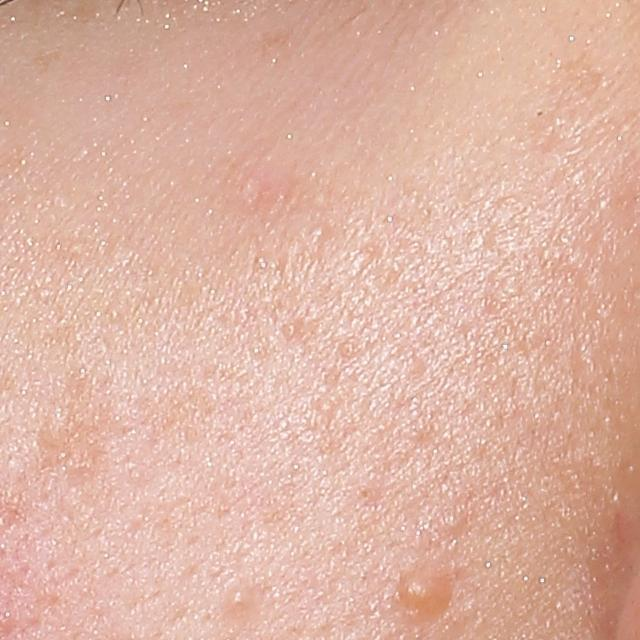comedo: (228, 586, 253, 611), (441, 508, 463, 531)
